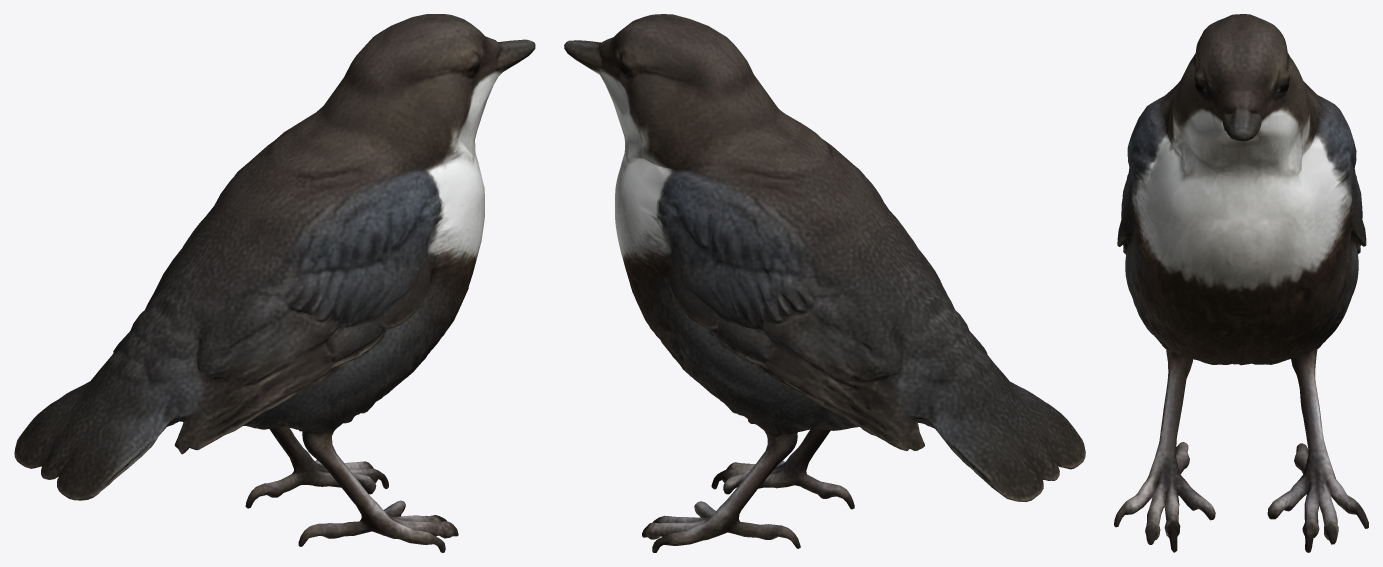
The model's file is white-throated-dipper-v21.glb.
The picture shows the model from 3 angles, left to right: view 1: azimuth 30°, elevation 25°; view 2: azimuth 150°, elevation 25°; view 3: azimuth 270°, elevation 25°; orthographic projection. The views are drawn at different scales.
Visible parts, largest first — view 1: geometry_0; view 2: geometry_0; view 3: geometry_0.
Part boxes in pixels (left/top/right/bottom): geometry_0: left=14, top=14, right=535, bottom=552; geometry_0: left=564, top=14, right=1085, bottom=552; geometry_0: left=1114, top=14, right=1368, bottom=552.
Bounding box in the file's own units: 0.1998 × 0.1898 × 0.0823.
1 material, 1 textured.
